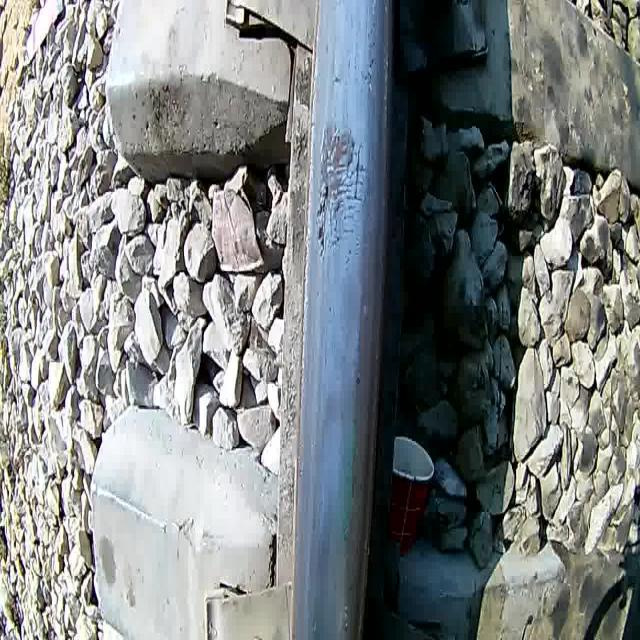Cracks: (349, 126, 366, 219)
Squats: (314, 115, 373, 268)
